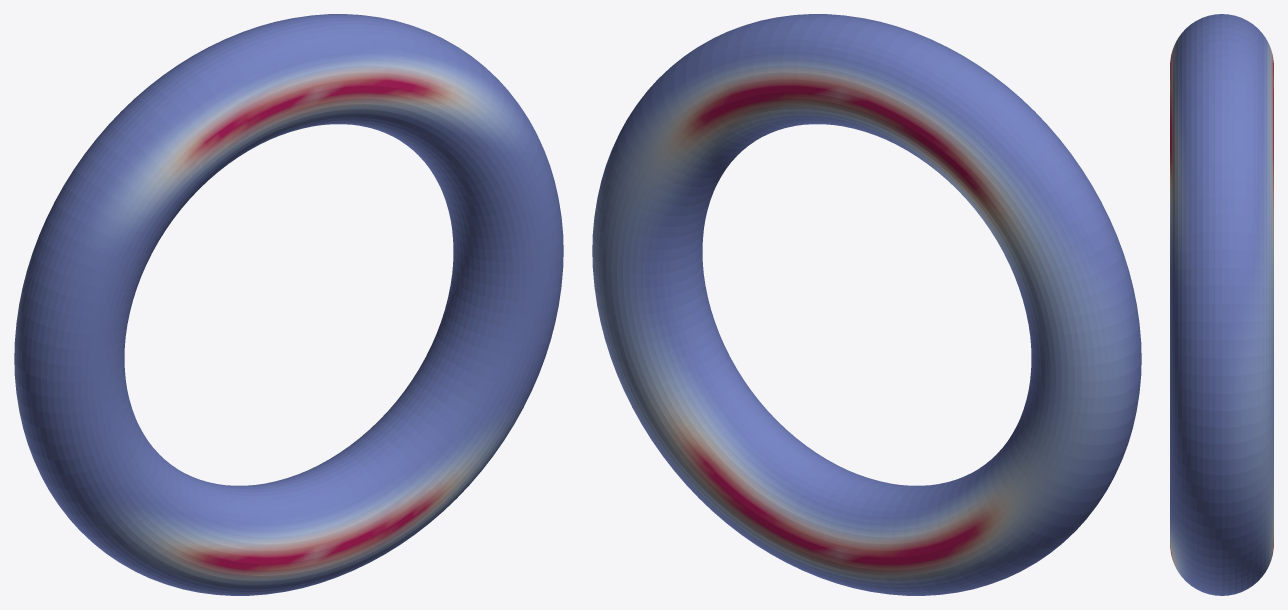
The picture shows the model from 3 angles, left to right: view 1: azimuth 30°, elevation 25°; view 2: azimuth 150°, elevation 25°; view 3: azimuth 270°, elevation 25°; orthographic projection. The views are drawn at different scales.
Visible parts, largest first — view 1: world; view 2: world; view 3: world.
Boxes of the visible parts, bbox=[...] form: world: bbox=[14, 14, 563, 595]; world: bbox=[592, 14, 1141, 595]; world: bbox=[1170, 14, 1273, 595].
Size of the model in its own units: 18.67 by 18.67 by 3.33.
